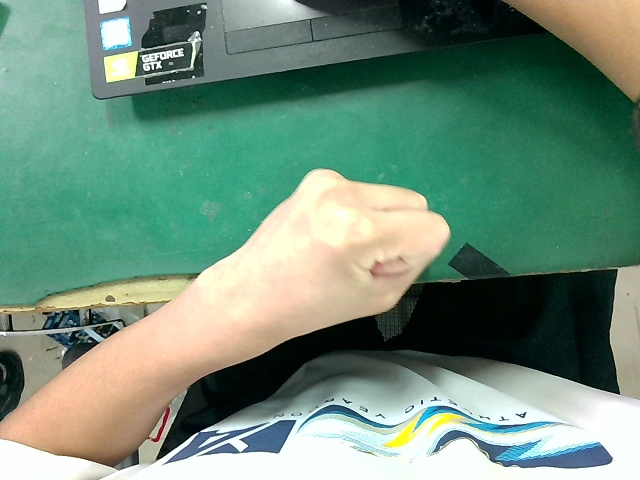stone: (204, 151, 446, 358)
